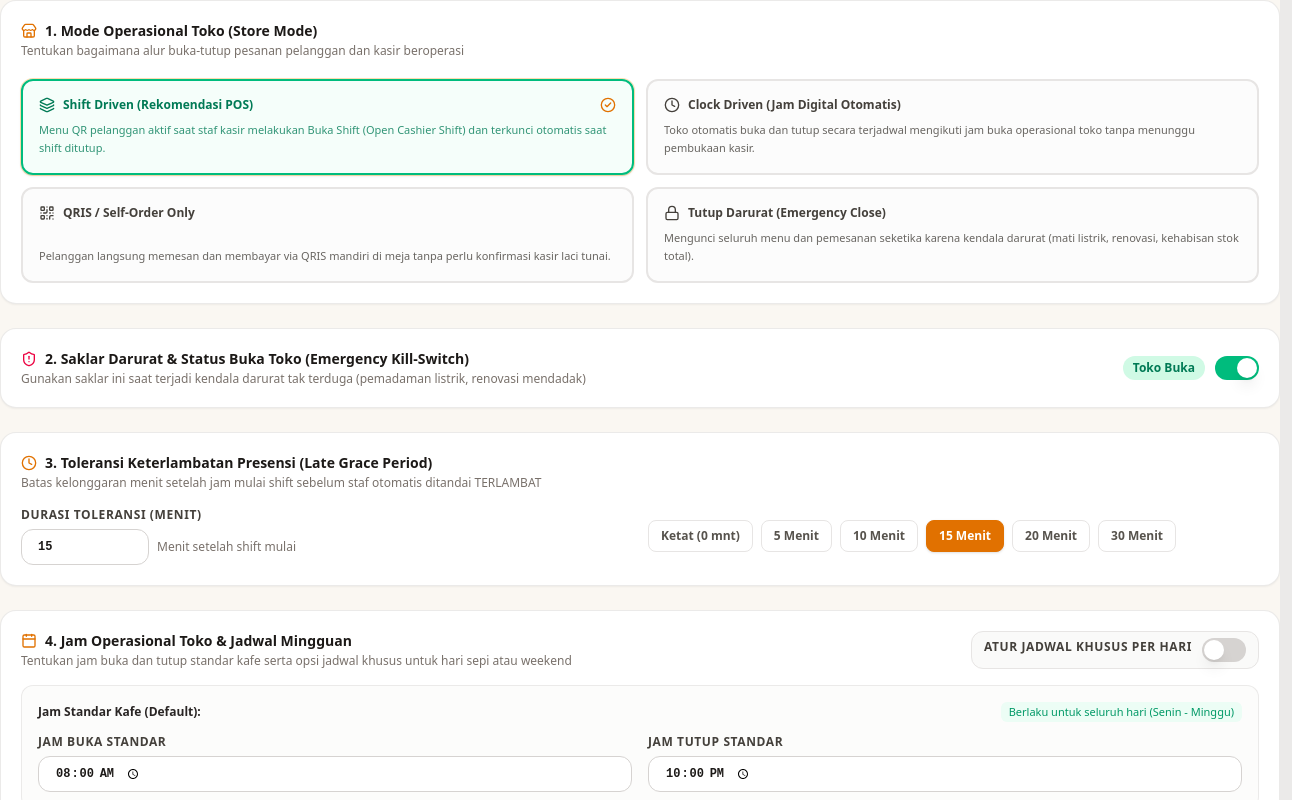
Test: StorePoliciesForm Component › toggles custom weekly schedules to reveal 7 days controls
Expected: the text "Kustomisasi Jam Buka-Tutup 7 Hari" is not shown
Step 1. Click the switch named "Atur Jadwal Khusus per Hari" next to "Atur Jadwal Khusus per Hari" → (1224, 650), box [1202,638,1246,662]
(page scrolled)
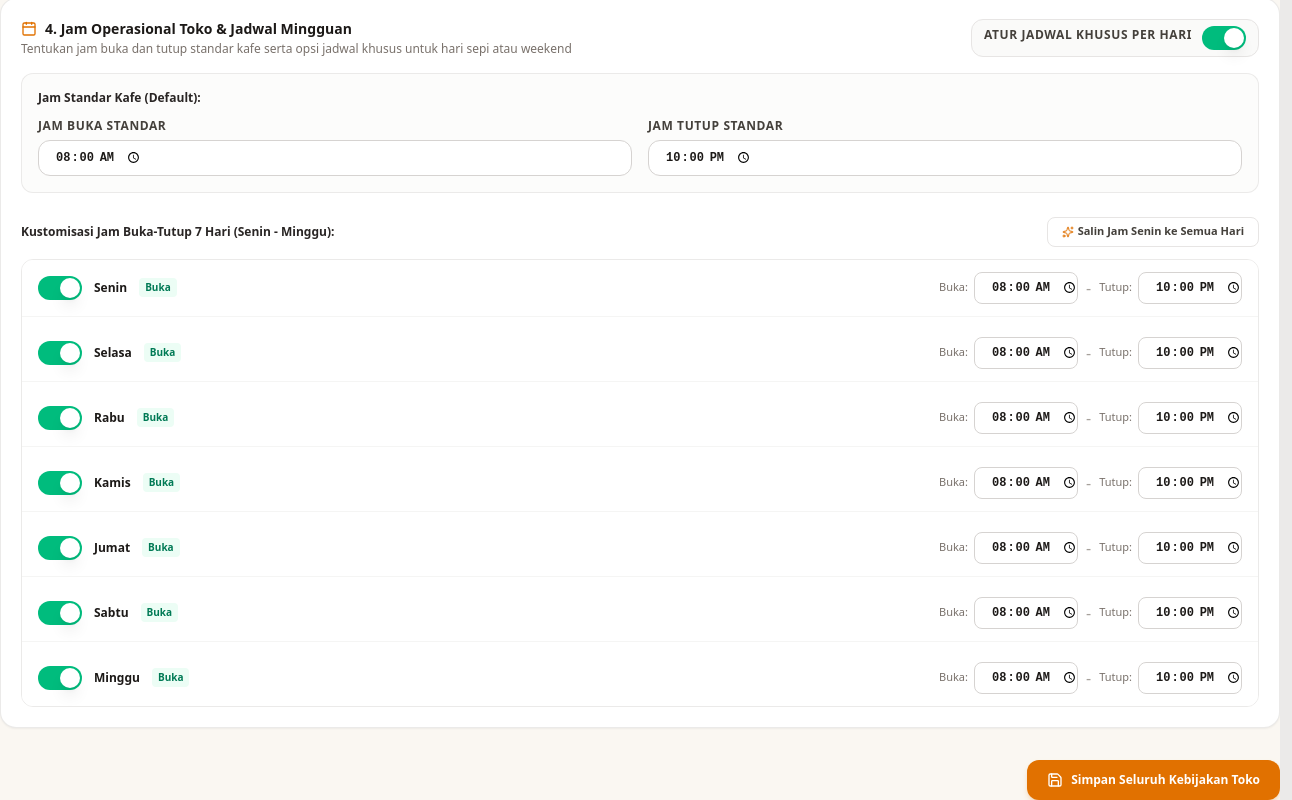
Result: the text "Kustomisasi Jam Buka-Tutup 7 Hari (Senin - Minggu):" is shown at [21,224,334,240]
Result: the text "Senin" is shown at [94,280,127,296]
Result: the text "Minggu" is shown at [94,670,140,686]
